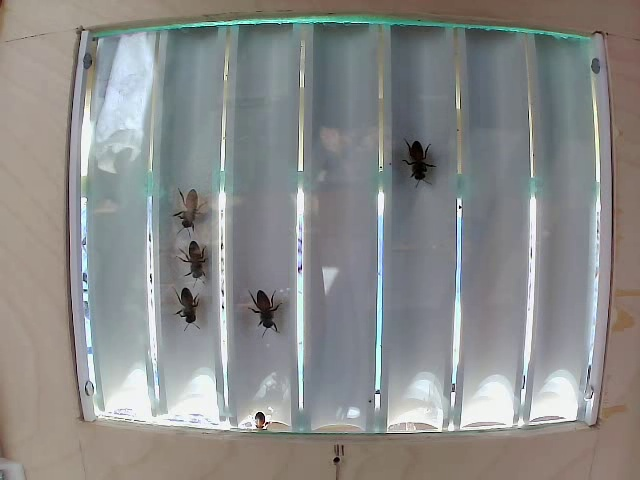bee: (400, 136, 440, 188), (170, 272, 205, 329), (172, 173, 207, 230), (255, 282, 286, 340), (178, 239, 206, 288)
